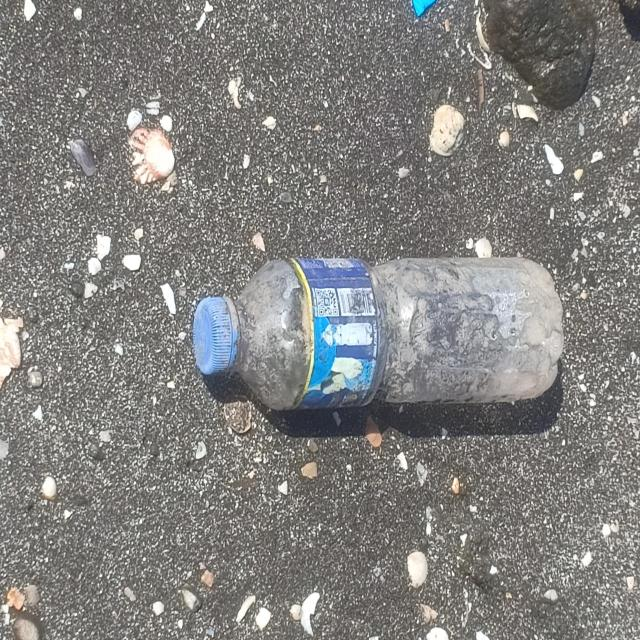litter: (194, 254, 564, 410)
